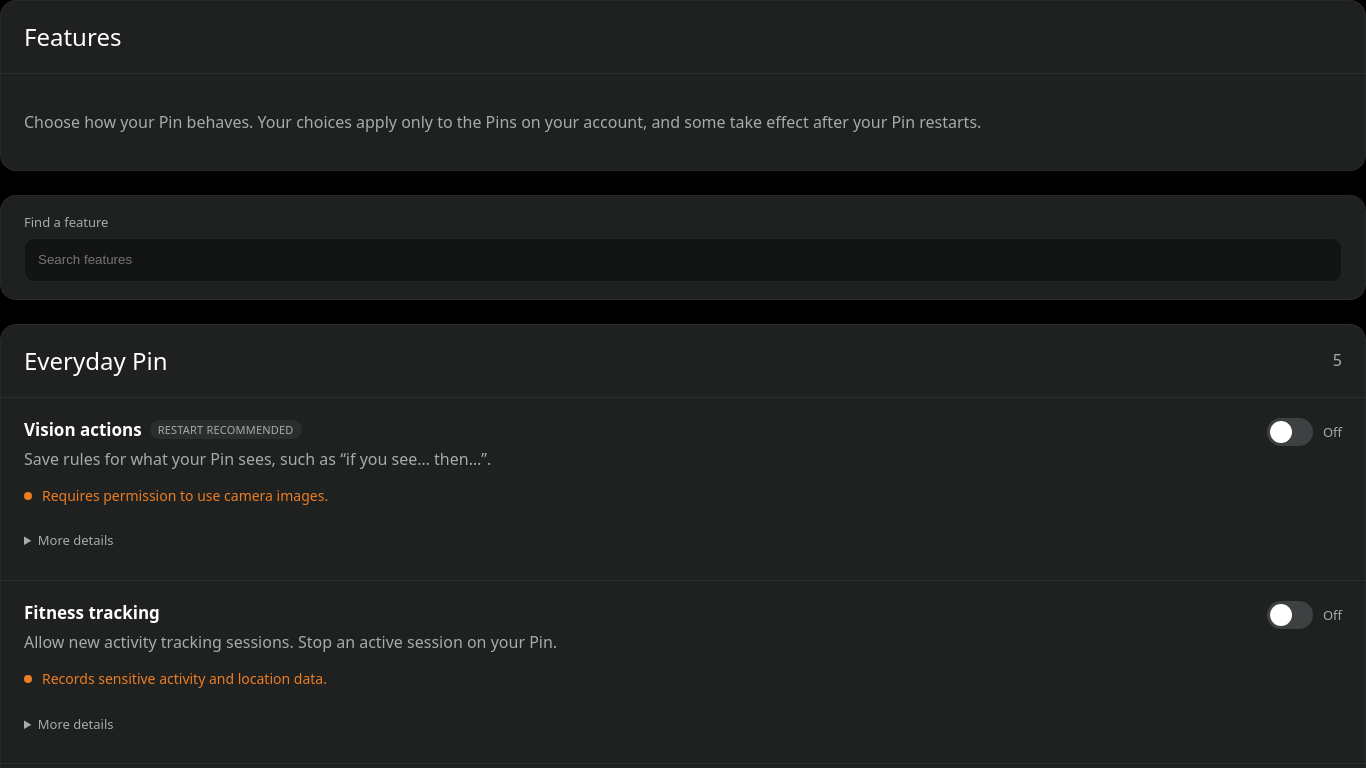
Scenario: Pin feature warnings and saved choices › shows consent and data warnings without exposing technical descriptions in the main rows
Check: the text "Requires permission to use camera images." is shown, box 42,486 -> 328,506
Check: the text "Records sensitive activity and location data." is shown, box 42,669 -> 327,690
Click the heading "More details" below "Vision actions": (76, 540) 38,531 -> 114,549
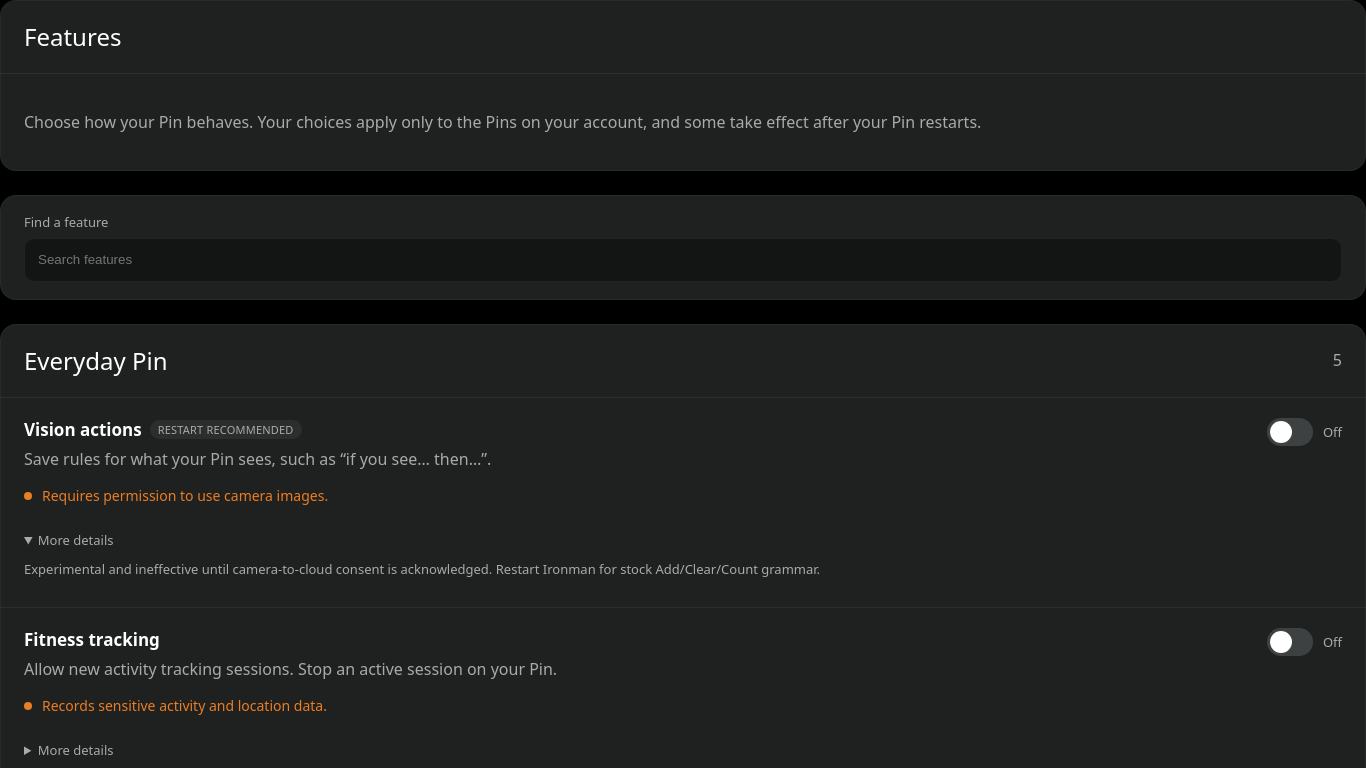
Check: the text "Restart Ironman for stock Add" is shown, box 24,560 -> 820,578
